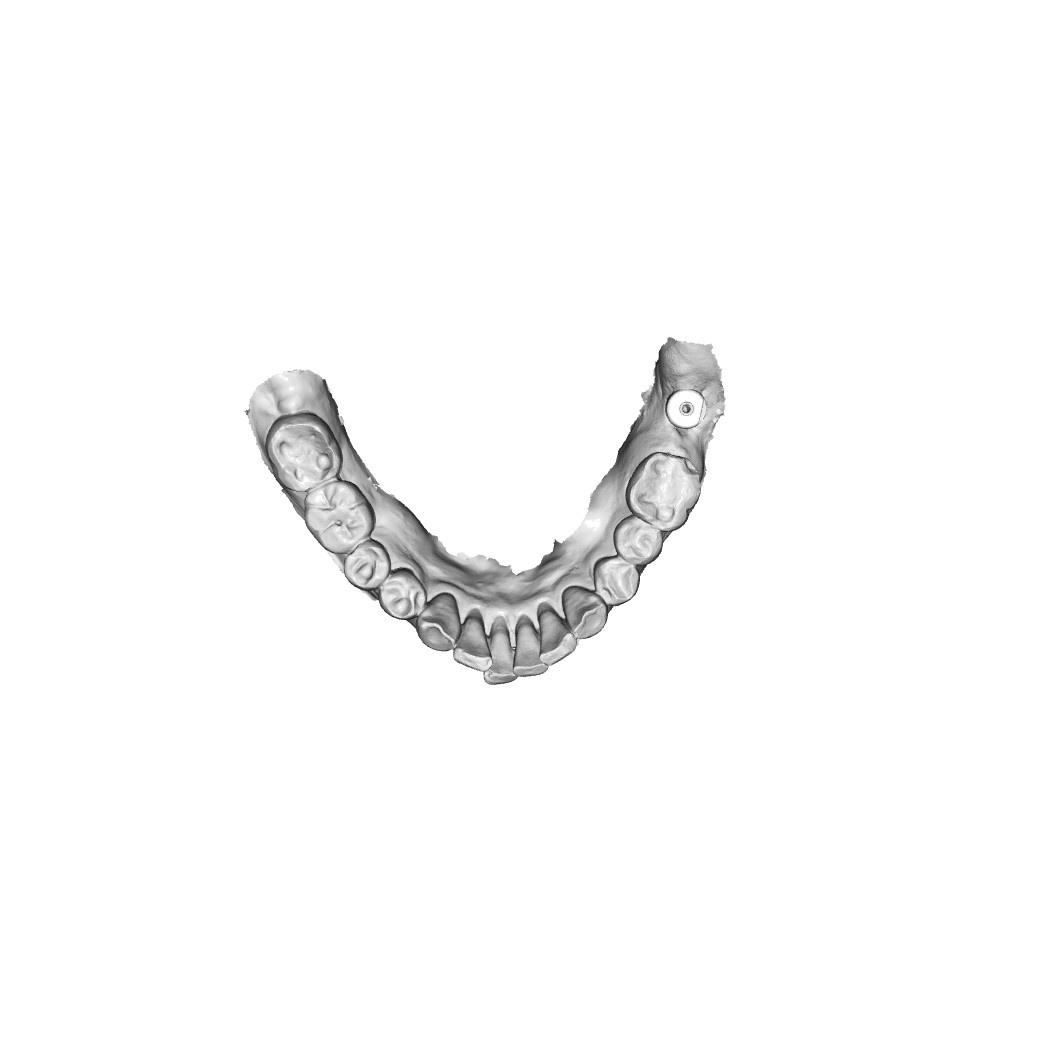canine: (413, 592, 461, 650), (562, 584, 609, 638)
implant: (664, 388, 705, 428)
incisor: (454, 610, 492, 672), (538, 606, 575, 660), (515, 614, 546, 675), (485, 619, 514, 684)
molar: (624, 451, 704, 531), (304, 481, 375, 554), (270, 416, 337, 488)
premolar: (613, 515, 664, 567), (592, 555, 642, 607), (380, 569, 424, 620), (343, 543, 388, 586)
